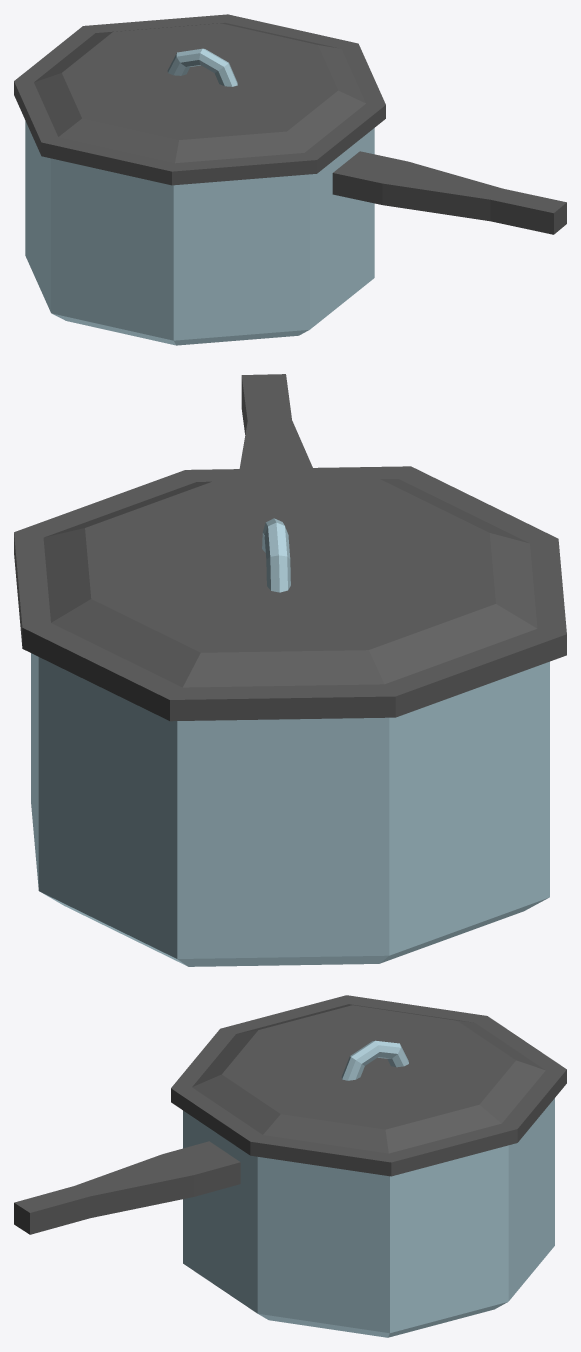
Rendered from Saucepan_2.fbx.
The picture shows the model from 3 angles, top to bottom: view 1: azimuth 30°, elevation 25°; view 2: azimuth 150°, elevation 25°; view 3: azimuth 270°, elevation 25°; orthographic projection. The views are drawn at different scales.
Visible parts, largest first — view 1: Saucepan_2; view 2: Saucepan_2; view 3: Saucepan_2.
Part boxes in pixels (<box>): Saucepan_2: <box>14,14,566,345</box>; Saucepan_2: <box>14,374,566,966</box>; Saucepan_2: <box>14,995,566,1337</box>.
Size of the model in its own units: 41.44 by 53.17 by 24.33.
